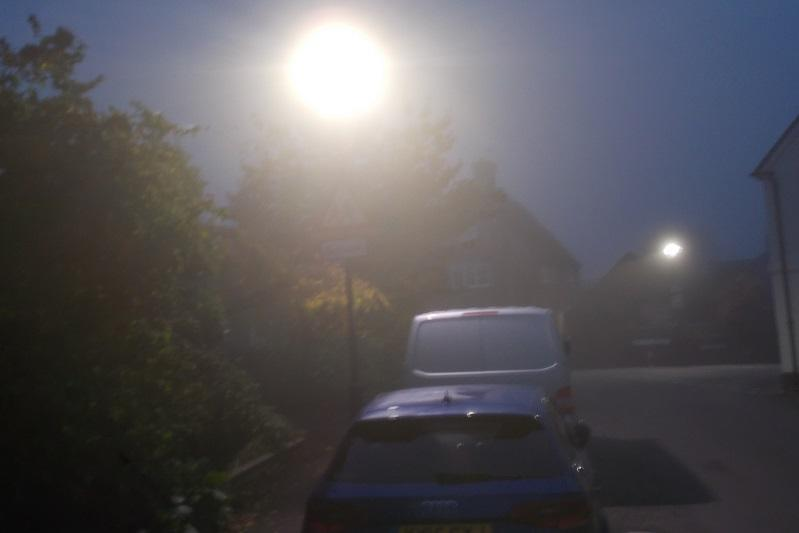car: (302, 380, 610, 533), (390, 303, 588, 472)
